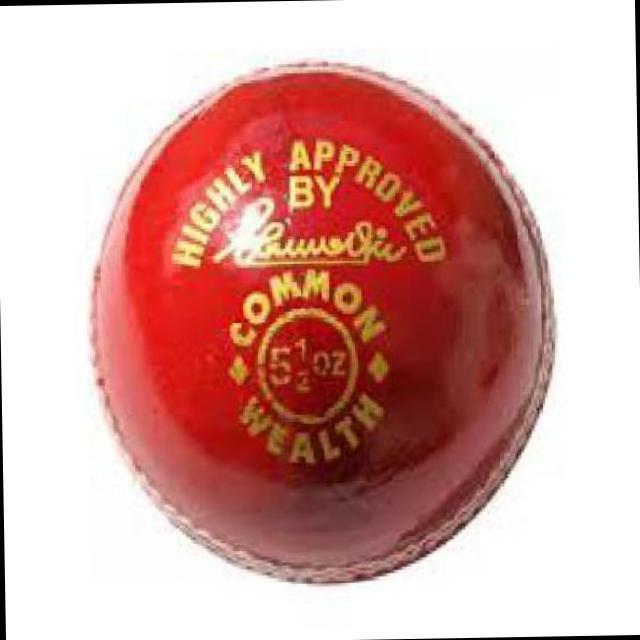-: (91, 46, 540, 577)
